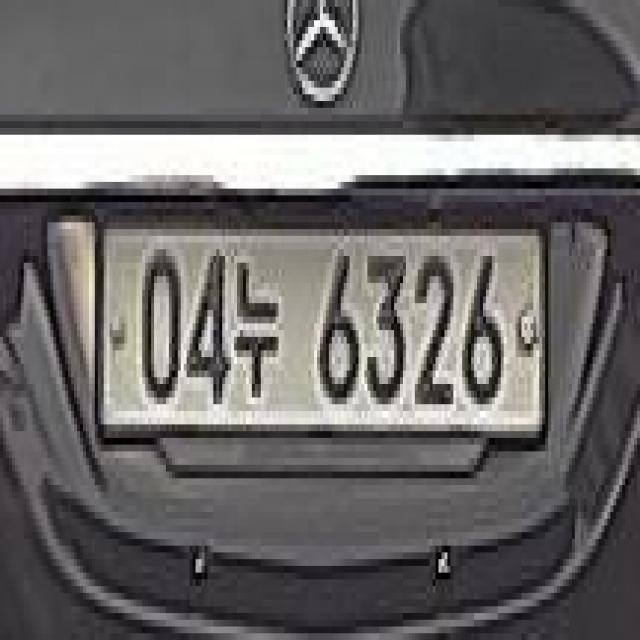illegal_plate: (86, 209, 553, 480)
